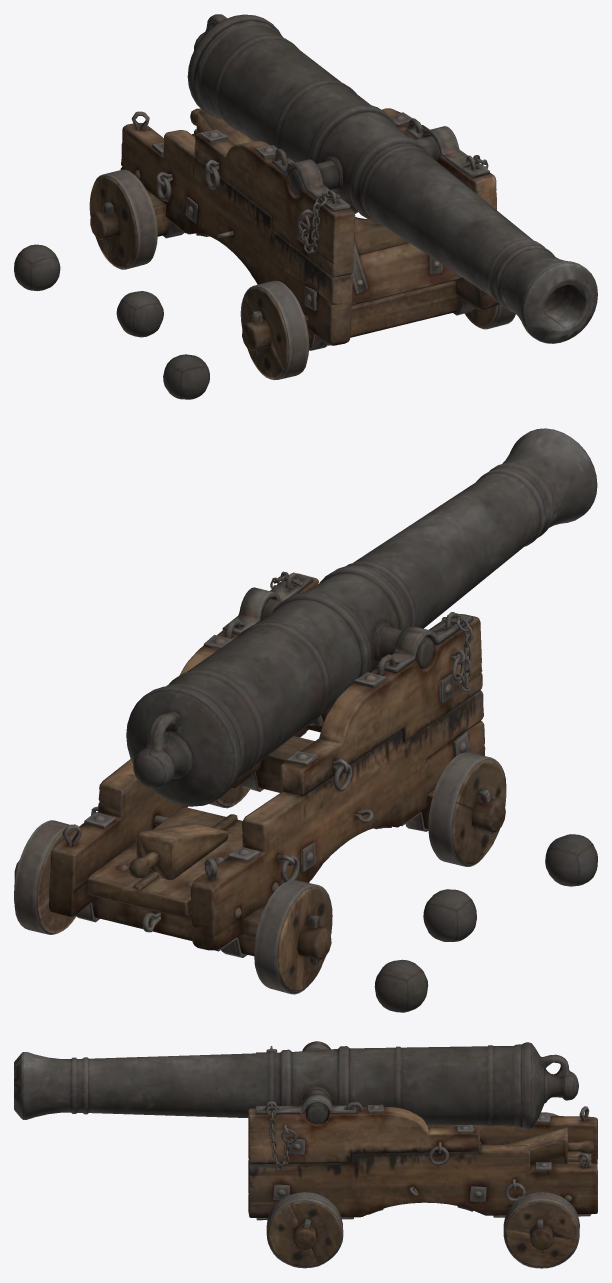
File: cannon_01.glb
3 renders of one model, top to bottom at view 1: azimuth 30°, elevation 25°; view 2: azimuth 150°, elevation 25°; view 3: azimuth 270°, elevation 25°, orthographic. The views are drawn at different scales.
Parts seen in each view (by area): view 1: cannon_01_ball_01; view 2: cannon_01_ball_01; view 3: cannon_01_ball_01.
Part boxes in pixels (box(x1,y1,x2,y2)): cannon_01_ball_01: box(14, 14, 597, 399); cannon_01_ball_01: box(14, 428, 597, 1012); cannon_01_ball_01: box(14, 1041, 597, 1268).
Size of the model in its own units: 1.23 by 0.7759 by 2.3.
1 material, 1 textured.
